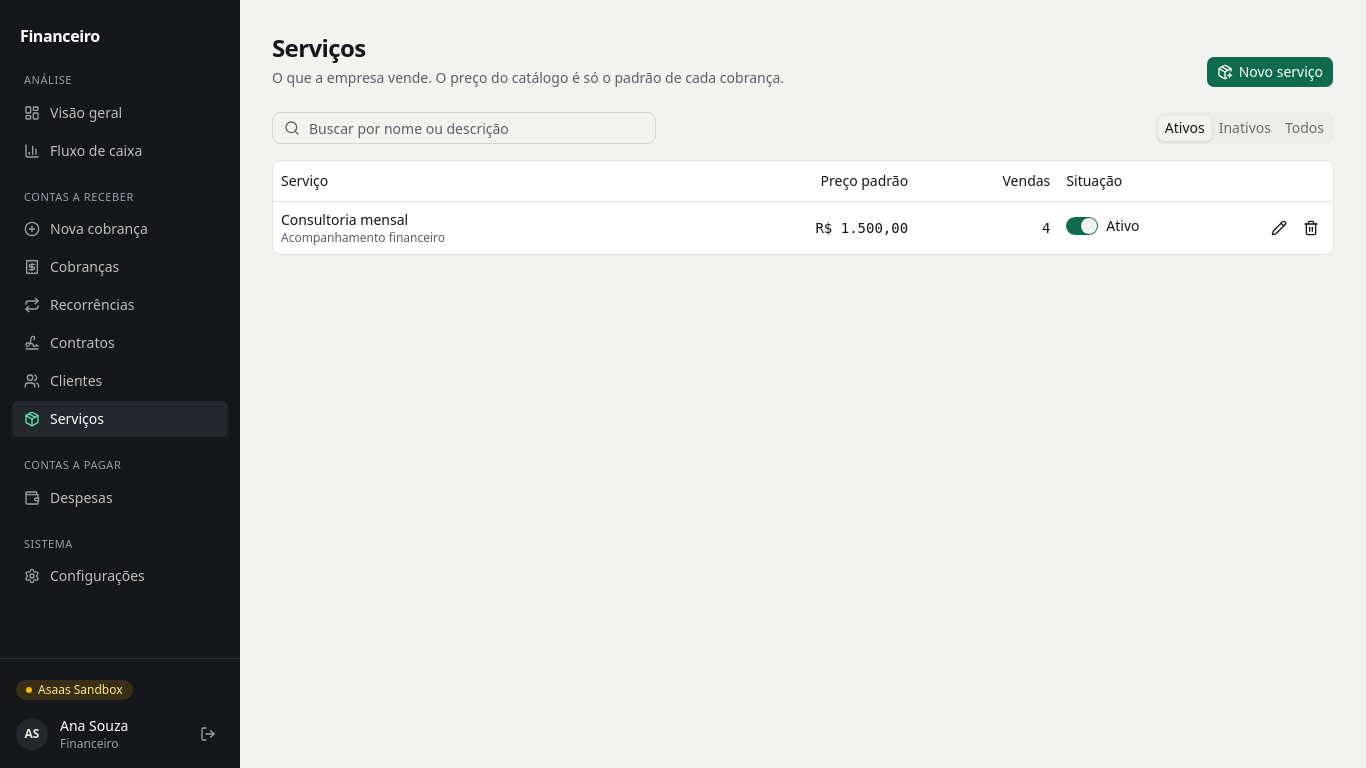
Test case: [SRV-01][SRV-02][SRV-03] tela de serviços › [SRV-02.2] excluir serviço já usado avisa e oferece desativar
Click the button named "Excluir Consultoria mensal". click: (1311, 228)
box: [1297, 214, 1325, 242]
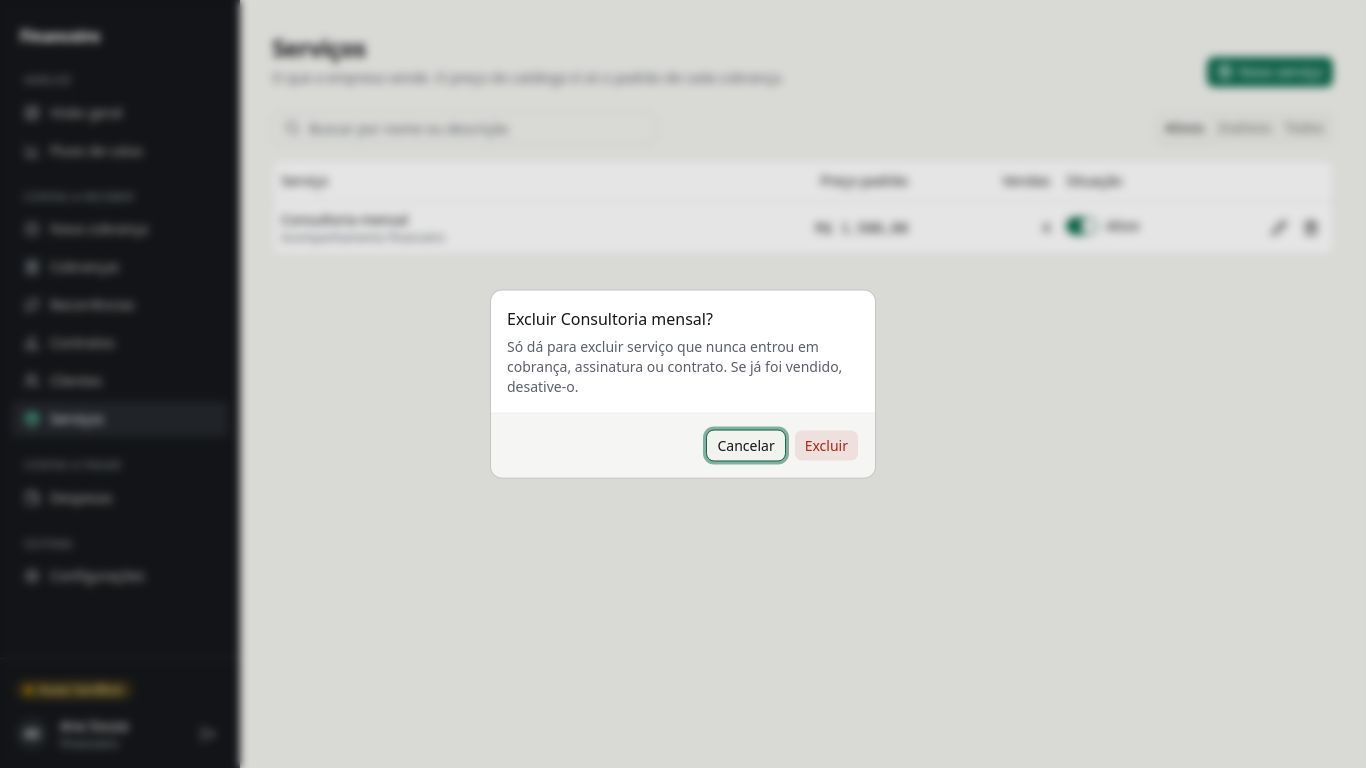
Click the button "Excluir". click: (826, 446)
box: [794, 430, 859, 462]
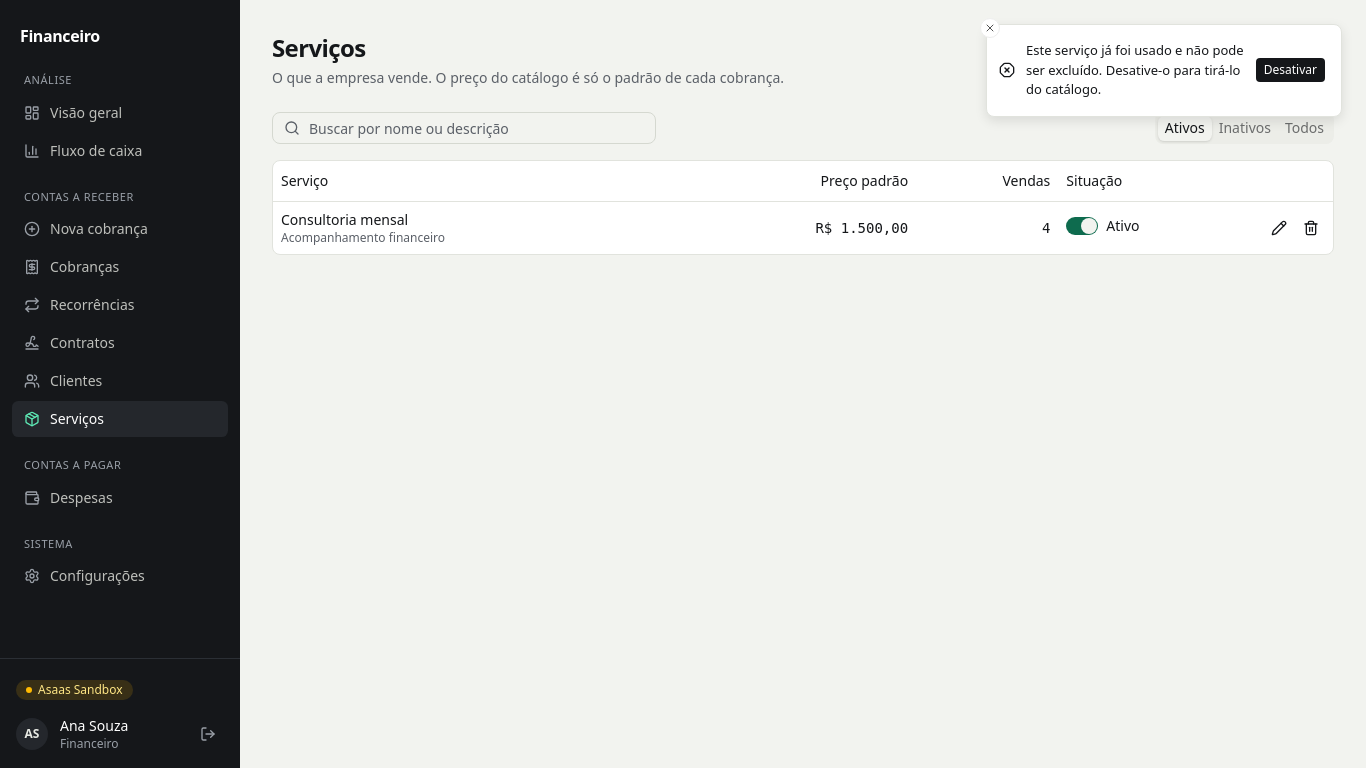
Result: the text "não pode ser excluído" is shown at [1026, 41, 1244, 98]
Result: the button "Desativar" is shown at [1256, 58, 1325, 82]
